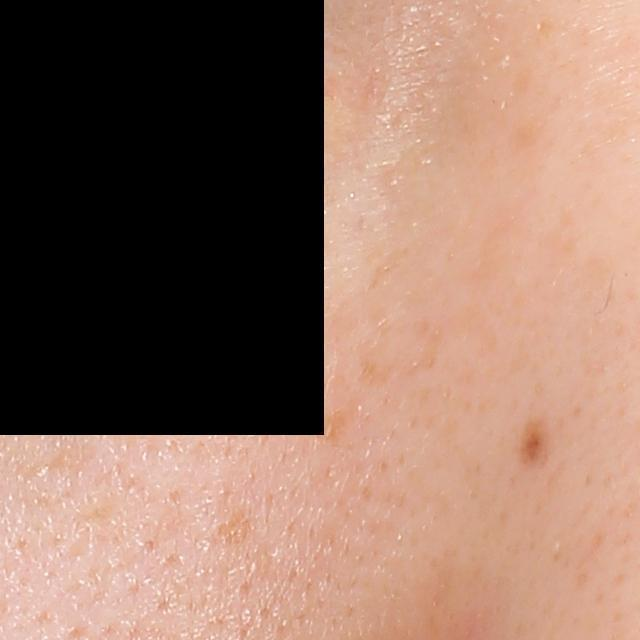melasma: (205, 504, 256, 552), (515, 414, 554, 475), (315, 403, 357, 447)
